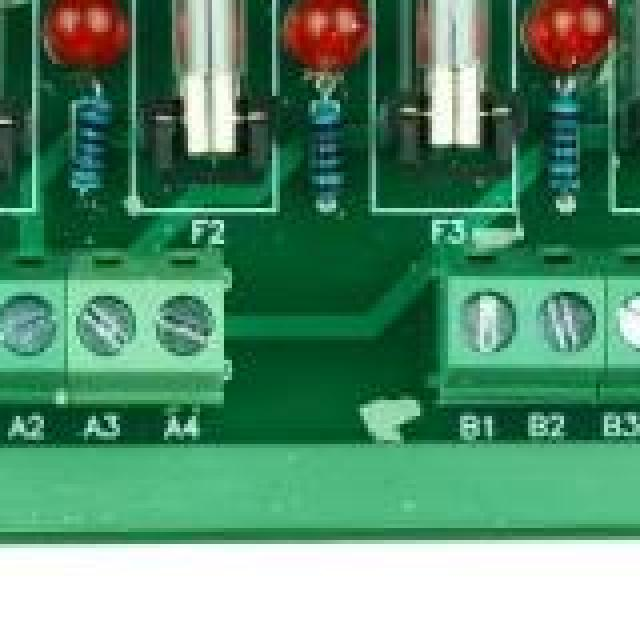LED: (284, 0, 404, 96), (504, 0, 628, 84), (48, 0, 140, 84)
connector: (0, 248, 260, 440), (448, 248, 640, 400)
fuse: (156, 0, 300, 180), (404, 0, 508, 172), (0, 0, 44, 160)
resistor: (52, 84, 130, 222), (304, 84, 368, 236), (524, 80, 602, 200)
